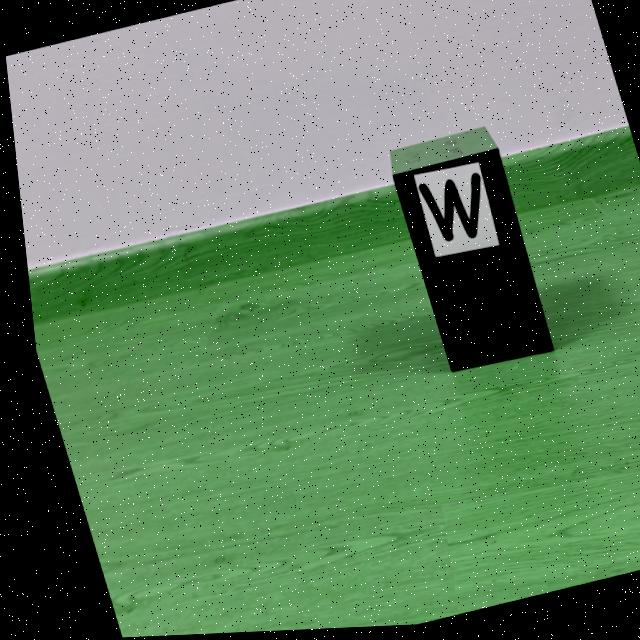W: (414, 177, 477, 245)
